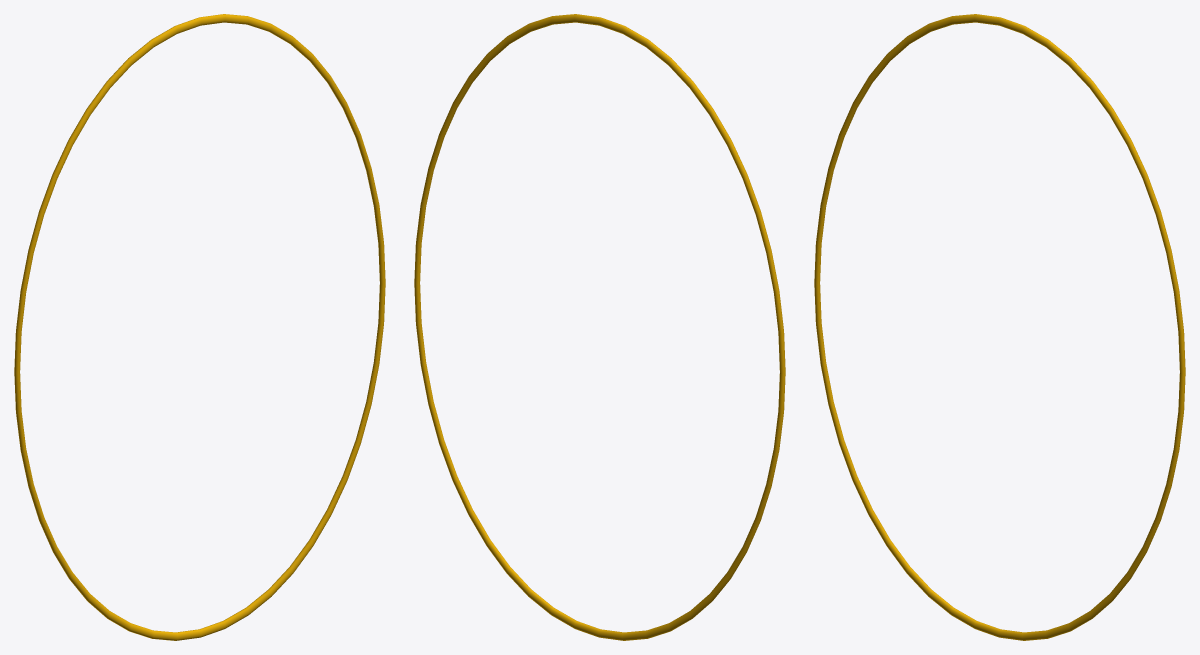
Rendered from rope.fbx.
The picture shows the model from 3 angles, left to right: view 1: azimuth 30°, elevation 25°; view 2: azimuth 150°, elevation 25°; view 3: azimuth 330°, elevation 25°; orthographic projection.
Parts seen in each view (by area): view 1: Torus; view 2: Torus; view 3: Torus.
Part boxes in pixels (bbox=[...]): Torus: bbox=[14, 14, 385, 640]; Torus: bbox=[414, 14, 785, 640]; Torus: bbox=[814, 14, 1185, 640].
Bounding box in the file's own units: 203 × 324 × 2.74.
